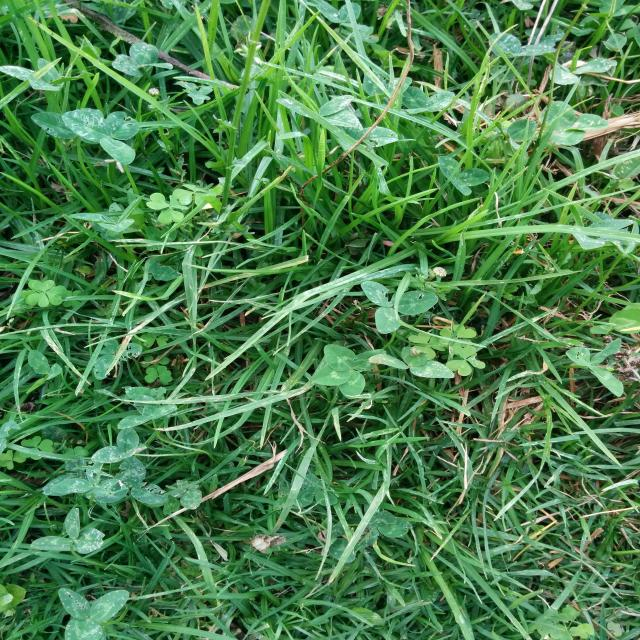Four Leaf Clover: (312, 344, 386, 399)
